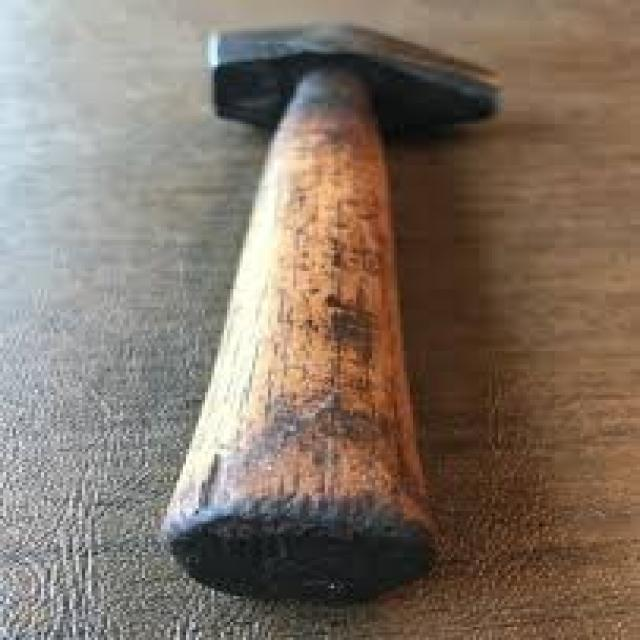hammer: (150, 19, 518, 610)
